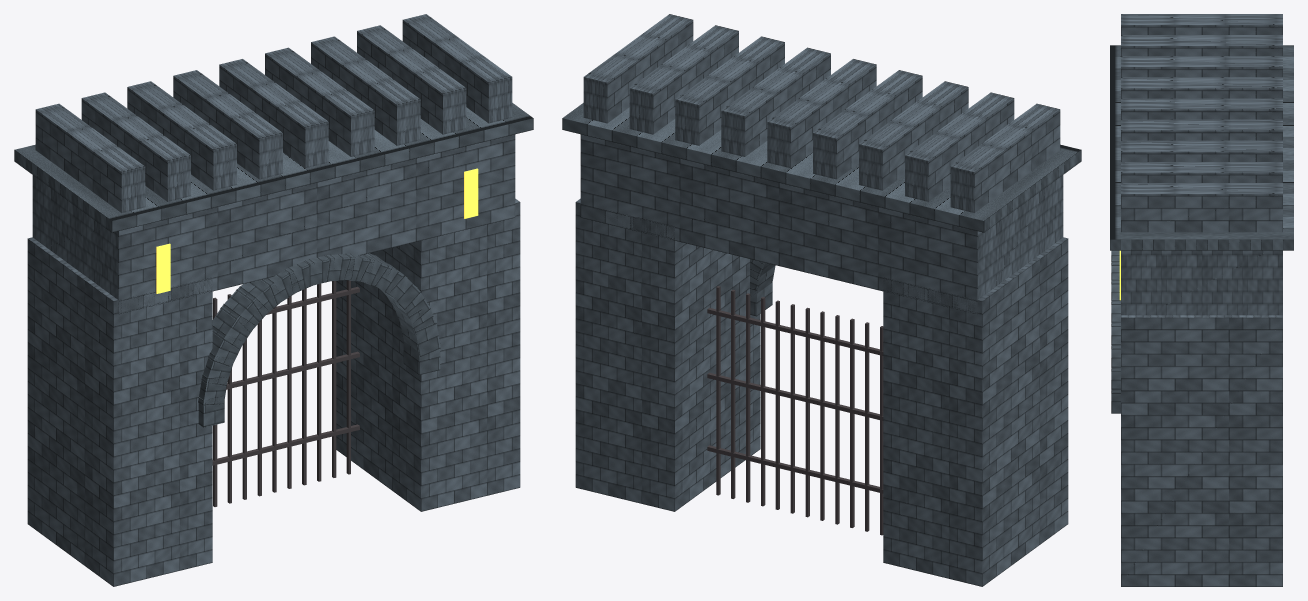
Rendered from gatehouse.glb.
3 views of the same model, side by side, from view 1: azimuth 30°, elevation 25°; view 2: azimuth 150°, elevation 25°; view 3: azimuth 270°, elevation 25° (orthographic). The views are drawn at different scales.
Parts seen in each view (by area): view 1: gatehouse; view 2: gatehouse; view 3: gatehouse.
Part boxes in pixels (x1,y1,x2,y2): gatehouse: [14, 14, 533, 586]; gatehouse: [562, 14, 1081, 586]; gatehouse: [1110, 14, 1293, 586].
Size of the model in its own units: 17 by 15.9 by 6.8.
Materials: 4 (2 with a texture image).
